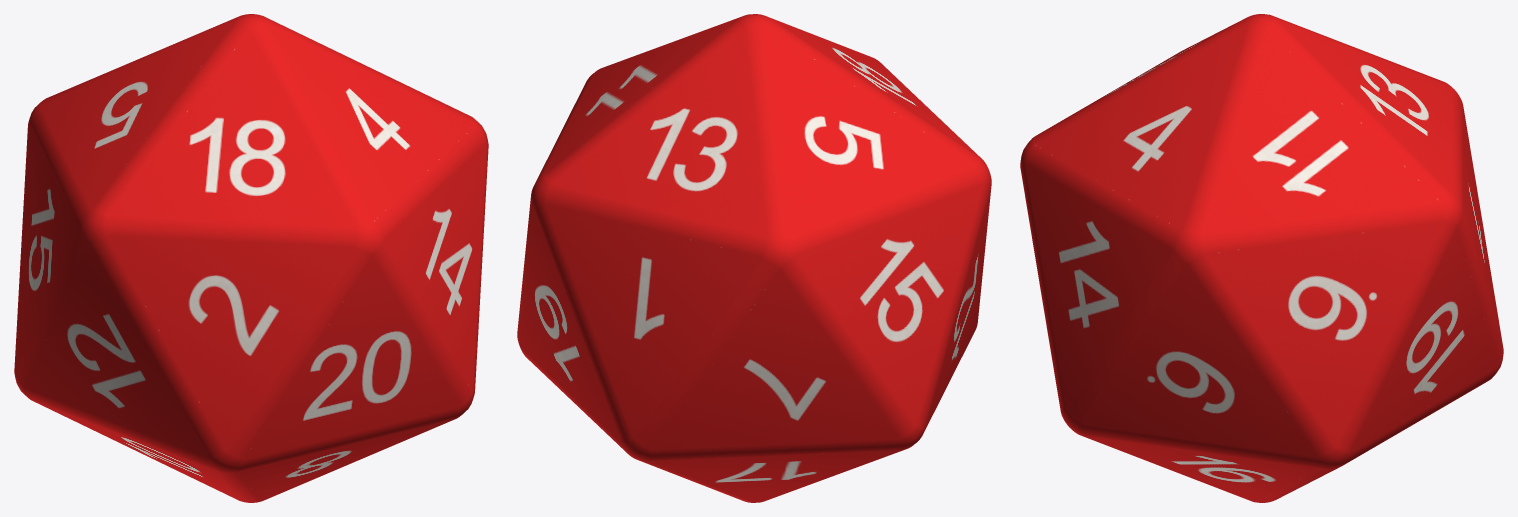
The picture shows the model from 3 angles, left to right: view 1: azimuth 30°, elevation 25°; view 2: azimuth 150°, elevation 25°; view 3: azimuth 270°, elevation 25°; orthographic projection.
Parts seen in each view (by area): view 1: d20_red_plastic; view 2: d20_red_plastic; view 3: d20_red_plastic.
Boxes of the visible parts, box(x1,y1,x2,y2) form: d20_red_plastic: box(14, 14, 488, 502); d20_red_plastic: box(517, 14, 991, 502); d20_red_plastic: box(1020, 14, 1503, 502).
Size of the model in its own units: 1.85 by 2.13 by 1.93.
Materials: 1 (1 with a texture image).
